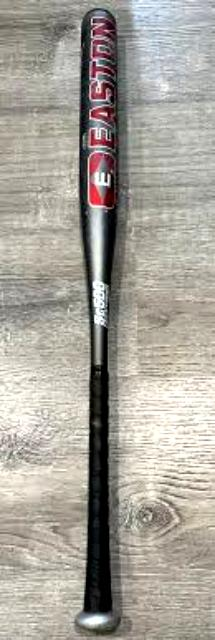baseball bat: (75, 6, 121, 632)
